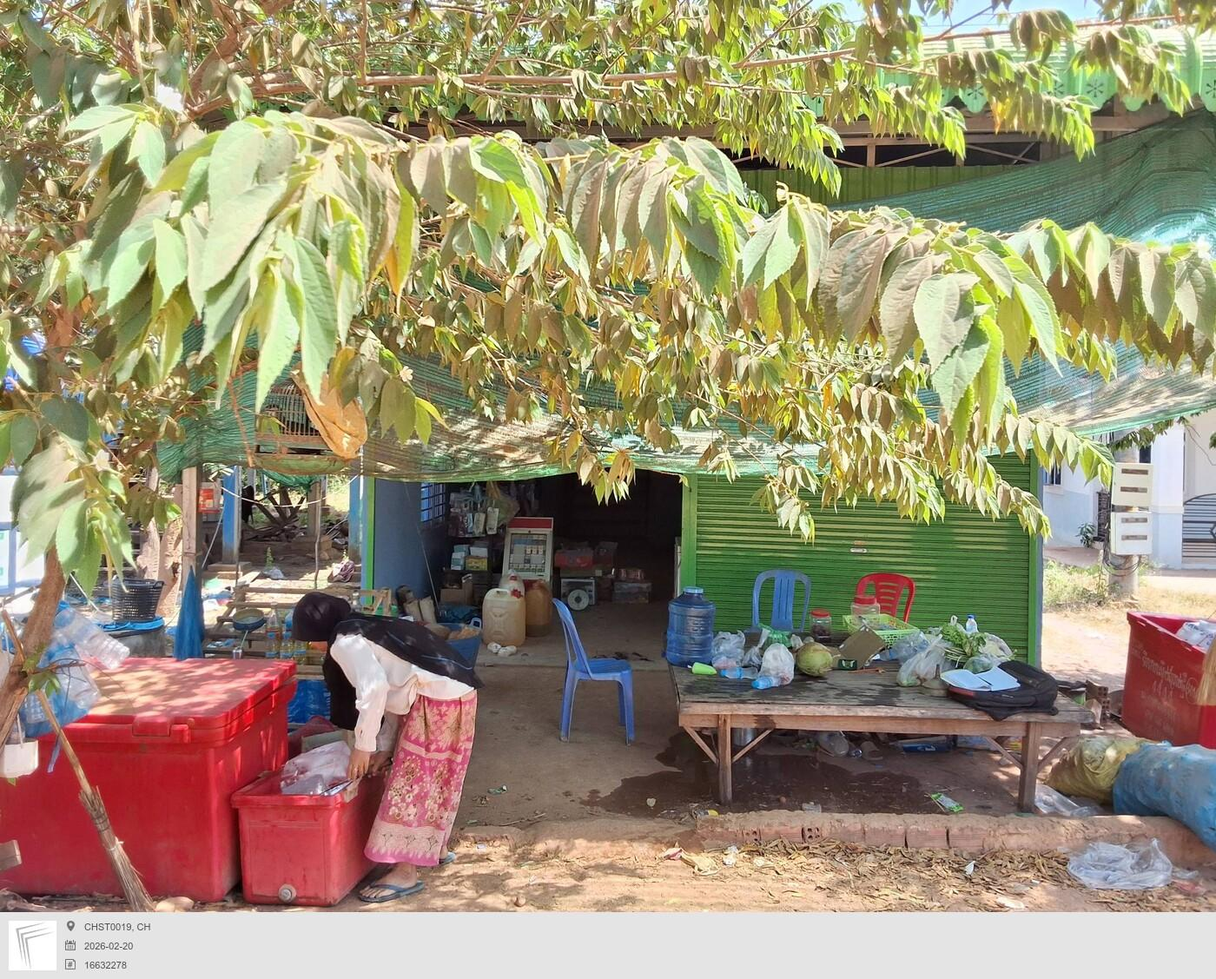cigarette_pack: (513, 534, 522, 544), (531, 535, 539, 546), (523, 554, 531, 564), (524, 544, 531, 555), (531, 545, 538, 556), (538, 534, 545, 545), (509, 563, 517, 572), (537, 546, 544, 556), (524, 535, 531, 544), (518, 563, 524, 573), (536, 564, 542, 573), (524, 563, 530, 572), (530, 564, 536, 572)
